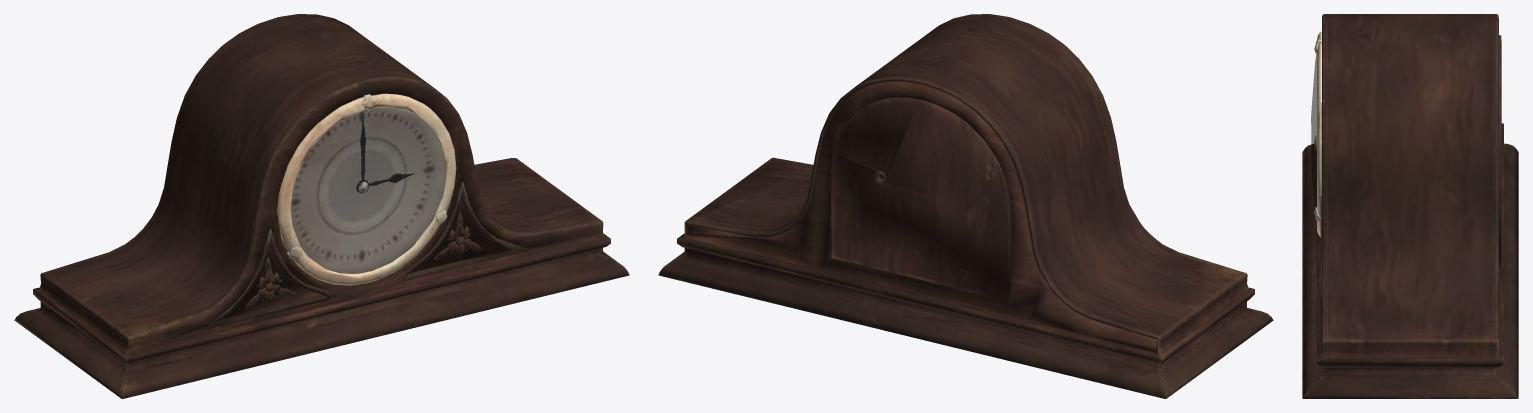
Rendered from mantel_clock_01.glb.
3 views of the same model, side by side, from view 1: azimuth 30°, elevation 25°; view 2: azimuth 150°, elevation 25°; view 3: azimuth 270°, elevation 25° (orthographic).
Visible parts, largest first — view 1: mantel_clock_01, mantel_clock_01_glass; view 2: mantel_clock_01; view 3: mantel_clock_01, mantel_clock_01_glass.
Part boxes in pixels (box(x1,y1,x2,y2)): mantel_clock_01: box(14, 14, 629, 398); mantel_clock_01_glass: box(291, 108, 445, 273); mantel_clock_01: box(658, 14, 1273, 398); mantel_clock_01: box(1302, 14, 1518, 398); mantel_clock_01_glass: box(1311, 53, 1316, 207).
Size of the model in its own units: 0.3418 by 0.1604 by 0.126.
2 materials, 2 textured.
